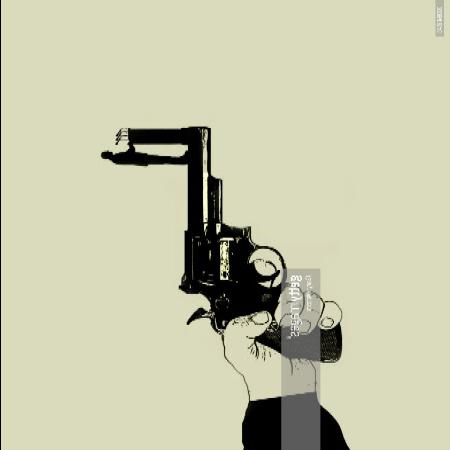Pistol: (91, 115, 343, 367)
